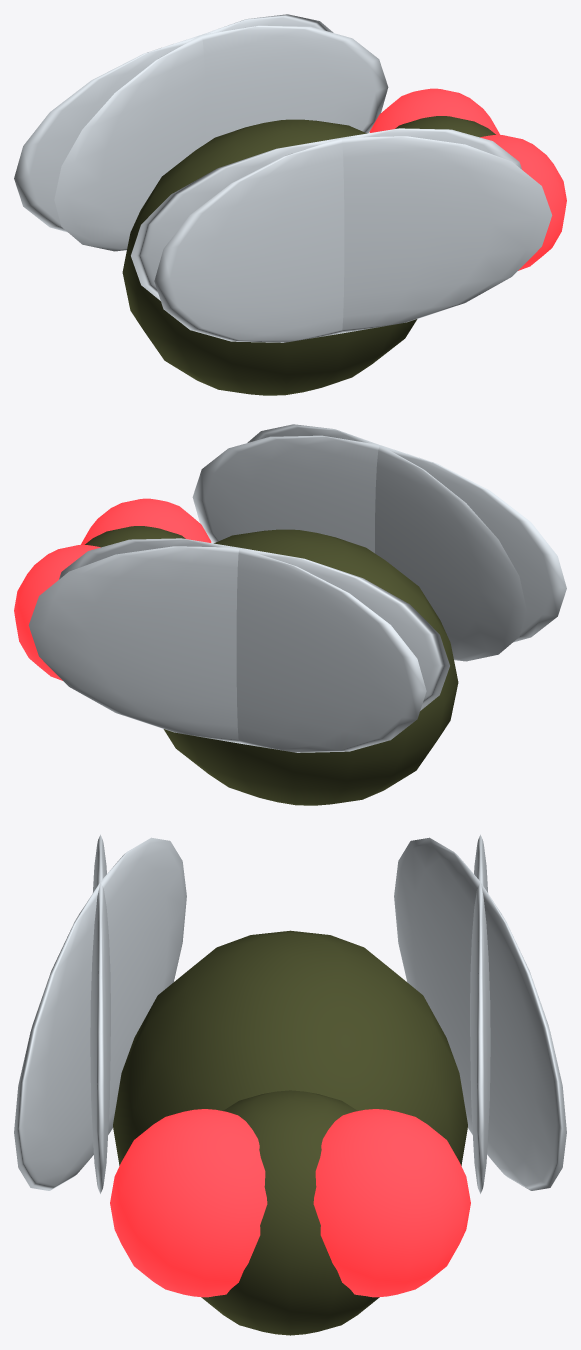
Rendered from housefly.glb.
3 renders of one model, top to bottom at view 1: azimuth 30°, elevation 25°; view 2: azimuth 150°, elevation 25°; view 3: azimuth 270°, elevation 25°, orthographic. The views are drawn at different scales.
Visible parts, largest first — view 1: Sphere.003, Sphere, Sphere.002; view 2: Sphere.003, Sphere, Sphere.002; view 3: Sphere, Sphere.003, Sphere.002.
Part boxes in pixels (x1,y1,x2,y2): Sphere.003: (14, 14, 552, 342); Sphere: (122, 116, 495, 395); Sphere.002: (369, 88, 566, 270); Sphere.003: (28, 424, 566, 752); Sphere: (85, 526, 458, 805); Sphere.002: (14, 498, 211, 680); Sphere: (113, 930, 467, 1335); Sphere.003: (14, 834, 566, 1193); Sphere.002: (110, 1109, 470, 1297).
Bounding box in the file's own units: 0.728 × 0.472 × 0.582.
